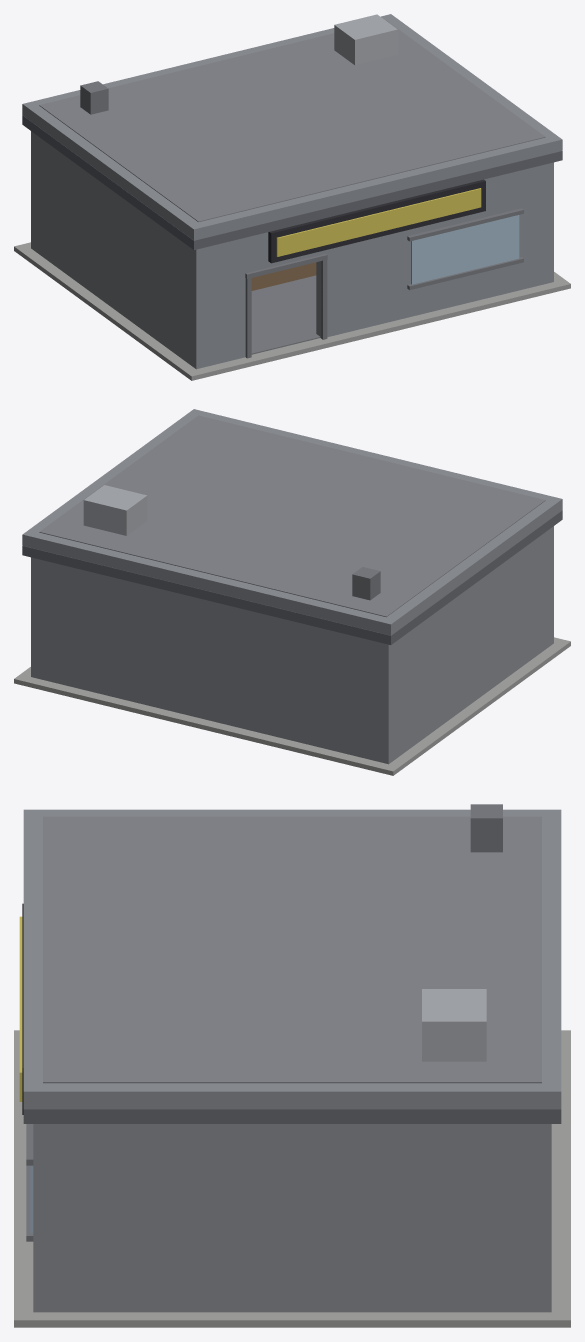
File: Dukkan_Silah.glb
The picture shows the model from 3 angles, top to bottom: view 1: azimuth 30°, elevation 25°; view 2: azimuth 150°, elevation 25°; view 3: azimuth 270°, elevation 25°; orthographic projection. The views are drawn at different scales.
Visible parts, largest first — view 1: Dukkan_Silah; view 2: Dukkan_Silah; view 3: Dukkan_Silah.
Part boxes in pixels (x1,y1,x2,y2): Dukkan_Silah: (14,14,570,380); Dukkan_Silah: (14,409,570,775); Dukkan_Silah: (14,804,570,1327).
Size of the model in its own units: 10.6 by 4.65 by 8.6.
